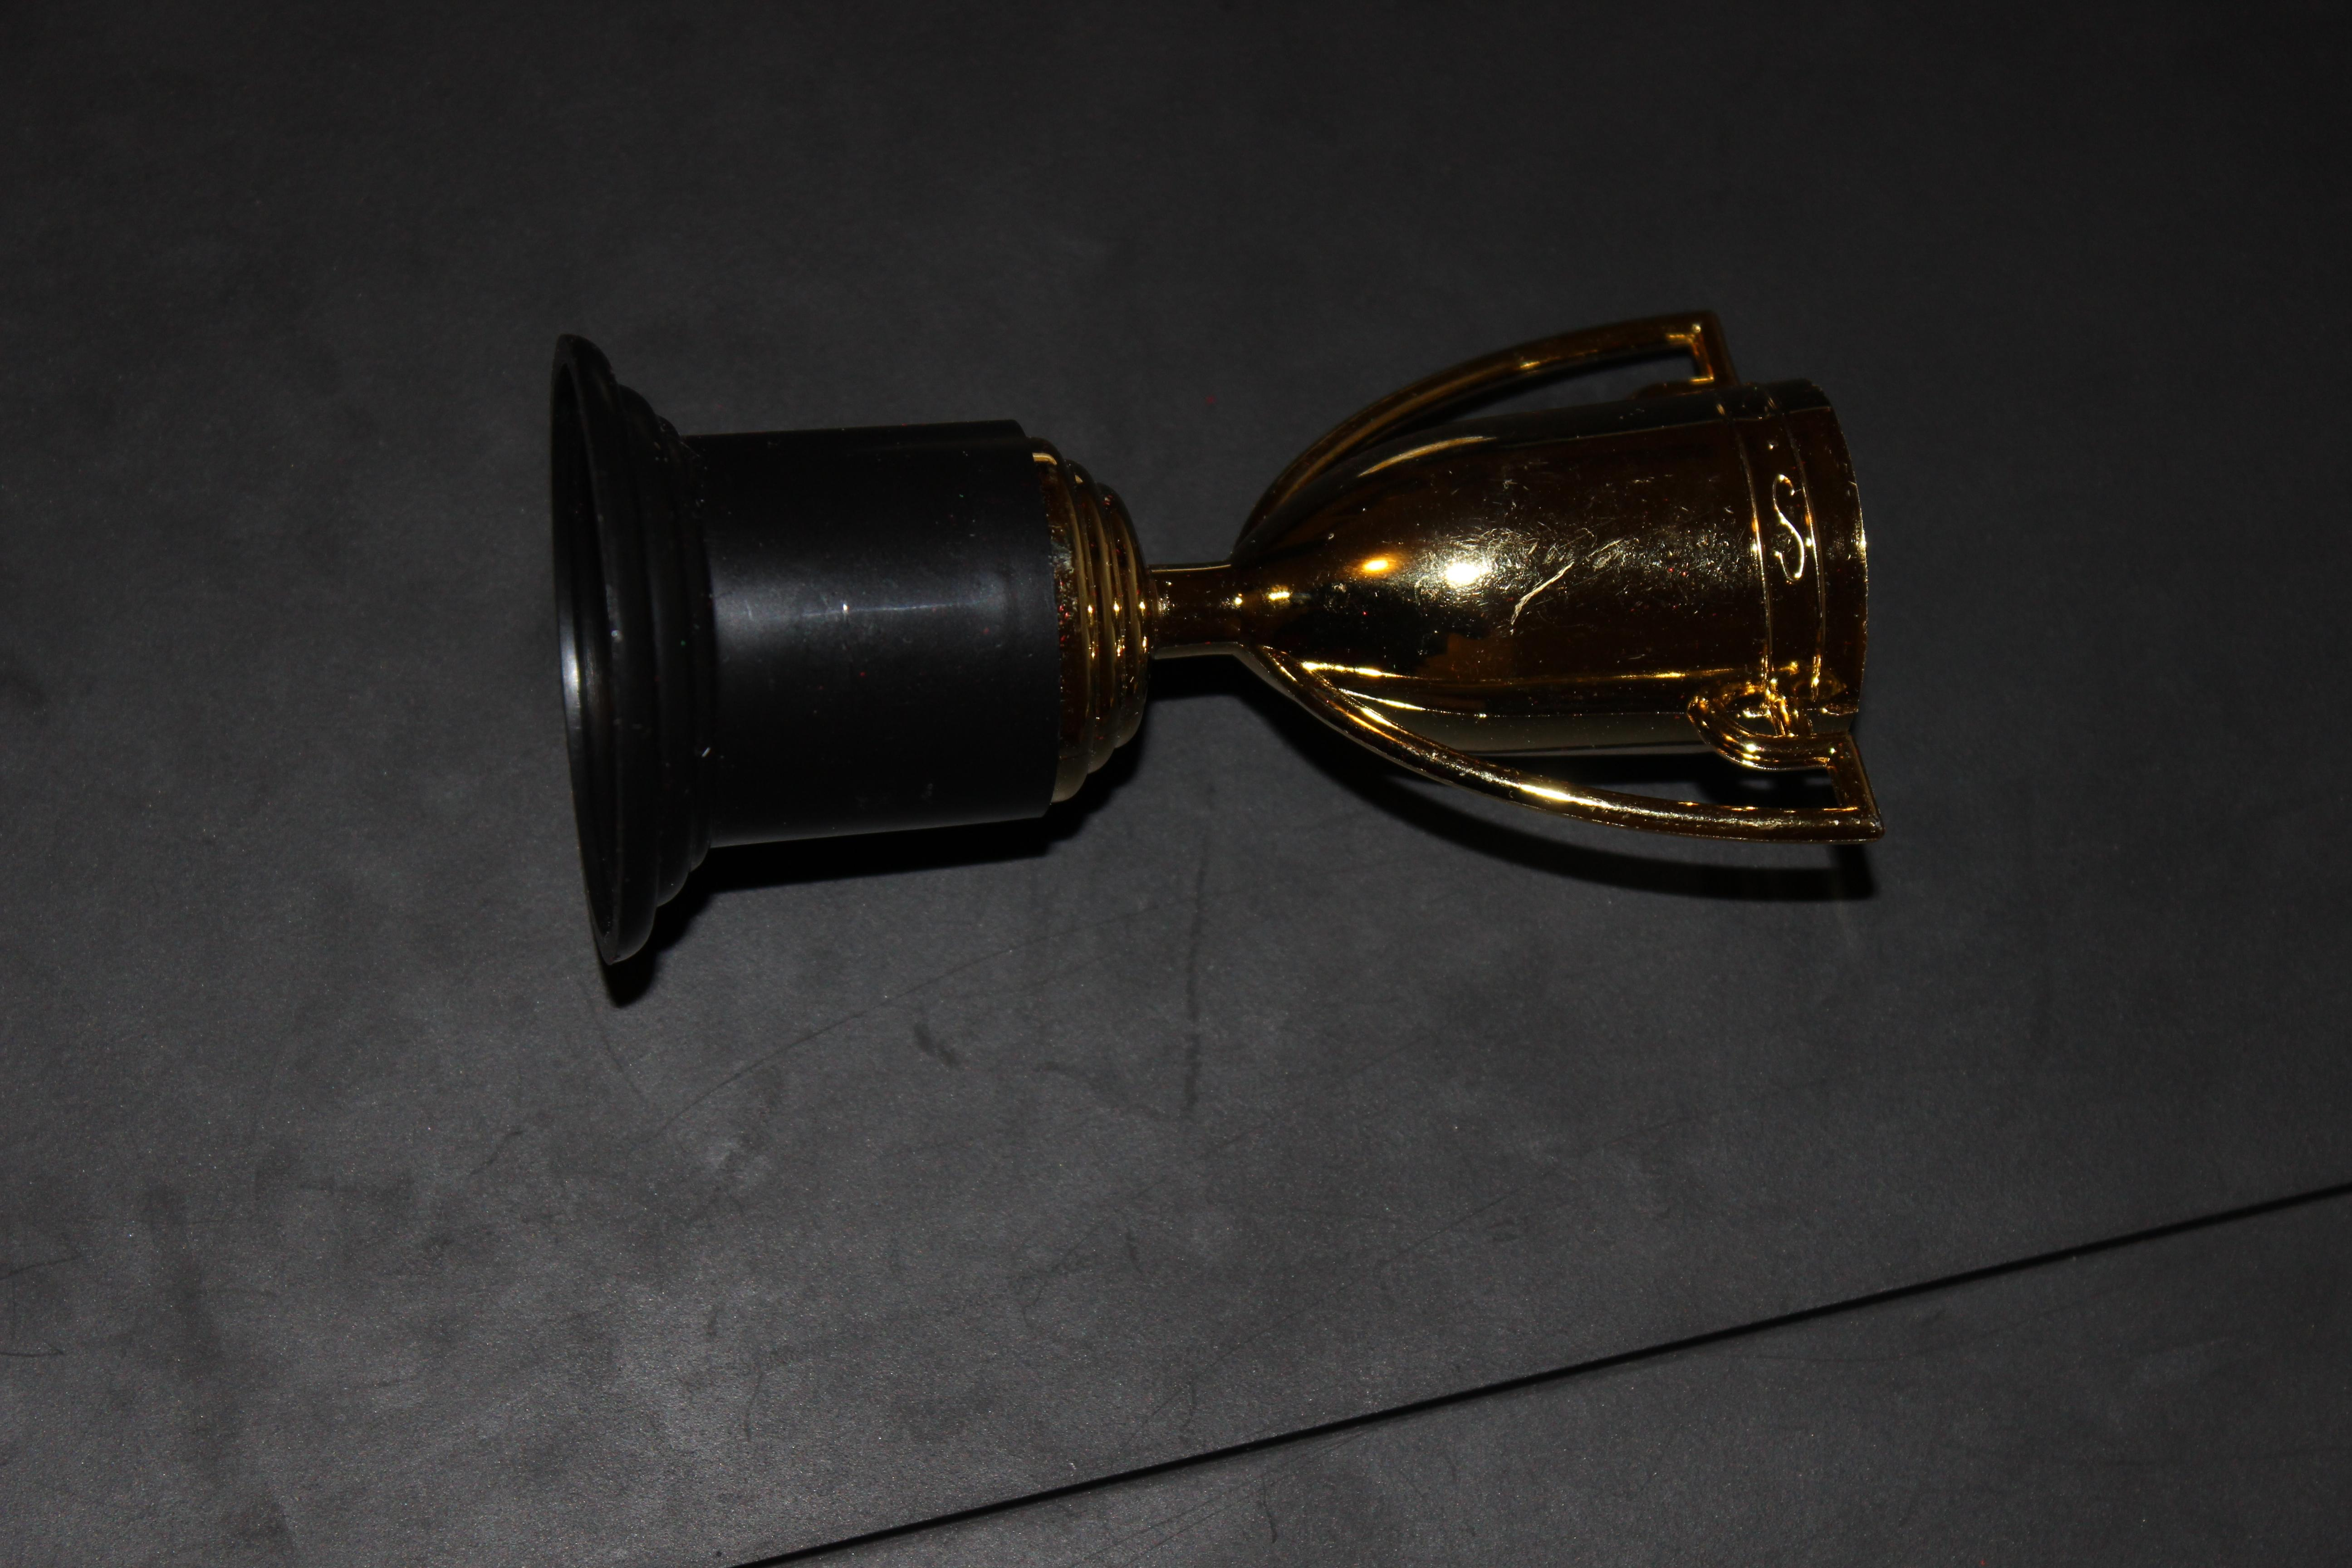trophy: (511, 242, 1943, 1057)
